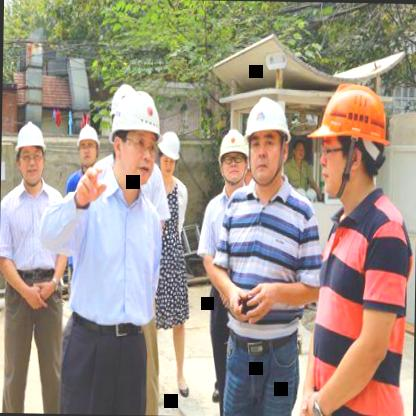head: (292, 137, 307, 161)
helmet: (312, 76, 392, 205), (110, 93, 162, 189), (241, 94, 293, 190), (9, 120, 48, 190), (216, 122, 250, 188), (73, 120, 104, 169), (156, 130, 184, 178)
